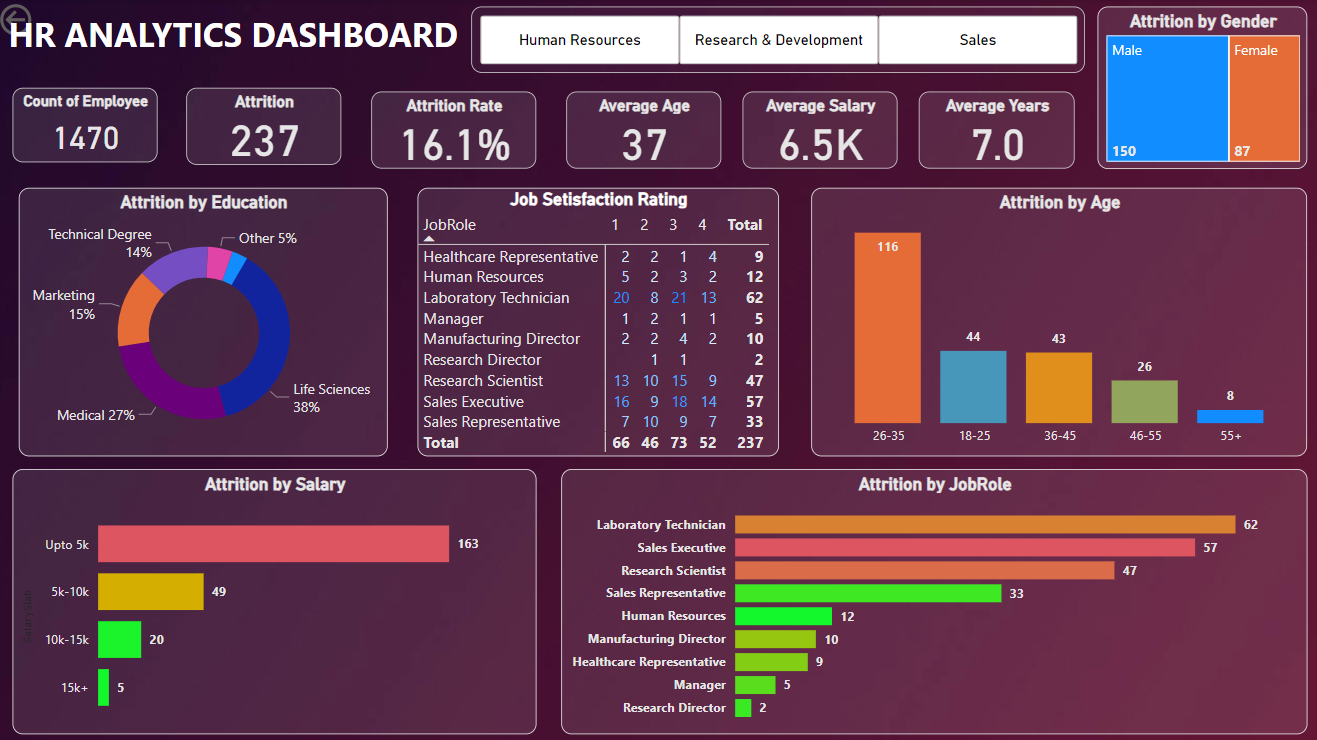

Layout of this report page (visuals, bound fields, positions):
{"tool":"powerbi","page":{"name":"Dashboard","canvas":[1280,720],"ordinal":0},"visuals":[{"type":"card","title":"Count of Employee","fields":{"Values":["CountNonNull(HR_Analytics.EmpID)"]},"box":[16.9,85.6,139.9,72.4],"z":0},{"type":"card","title":"Attrition","fields":{"Values":["CountNonNull(HR_Analytics.newcol)"]},"box":[184.5,85.6,149.5,74.8],"z":1000},{"type":"card","title":"Attrition Rate","fields":{"Values":["HR_Analytics.AttritionRate"]},"box":[363,89.2,159.2,74.8],"z":2000},{"type":"card","title":"Average Age","fields":{"Values":["Avg(HR_Analytics.Age)"]},"box":[551.2,89.2,149.5,74.8],"z":3000},{"type":"actionButton","box":[0,0,100,40],"z":4000},{"type":"card","title":"Average Salary","fields":{"Values":["Avg(HR_Analytics.MonthlyIncome)"]},"box":[721.2,89.2,149.5,74.8],"z":5000},{"type":"card","title":"Average Years","fields":{"Values":["Avg(HR_Analytics.YearsAtCompany)"]},"box":[891.3,89.2,150.8,74.8],"z":6000},{"type":"donutChart","title":"Attrition by Education","fields":{"Category":["HR_Analytics.EducationField"],"Y":["CountNonNull(HR_Analytics.Attrition_Count)"]},"box":[22.9,182.1,355.8,259.3],"z":7000},{"type":"columnChart","title":"Attrition by Age","fields":{"Category":["HR_Analytics.AgeGroup"],"Y":["CountNonNull(HR_Analytics.Attrition_Count)"]},"box":[787.5,182.1,478.8,259.3],"z":8000},{"type":"pivotTable","title":"Job Setisfaction Rating","fields":{"Rows":["HR_Analytics.JobRole"],"Columns":["HR_Analytics.JobSatisfaction"],"Values":["CountNonNull(HR_Analytics.Attrition_Count)"]},"box":[407.6,182.1,348.5,259.3],"z":9000},{"type":"barChart","title":"Attrition by Salary","fields":{"Category":["HR_Analytics.SalarySlab"],"Y":["CountNonNull(HR_Analytics.Attrition_Count)"]},"box":[16.9,453.5,505.3,255.7],"z":10000},{"type":"barChart","title":"Attrition by JobRole","fields":{"Y":["CountNonNull(HR_Analytics.Attrition_Count)"],"Category":["HR_Analytics.JobRole"]},"box":[546.3,453.5,720,255.7],"z":11000},{"type":"treemap","title":"Attrition by Gender","fields":{"Values":["CountNonNull(HR_Analytics.Attrition_Count)"],"Group":["HR_Analytics.Gender"]},"box":[1063.7,7.2,202.6,156.8],"z":12000},{"type":"advancedSlicerVisual","fields":{"Values":["HR_Analytics.Department"]},"box":[459.5,7.2,592.2,63.9],"z":13000},{"type":"textbox","box":[0,7.2,459.5,63.9],"z":13001}]}

Visuals, with their boxes in screenshot pixels (x1, y1, x2, y2), scaled from the page's 1280x720 canvas onto the 1317x740 screenshot:
"Count of Employee" card: 17/88/161/162
"Attrition" card: 190/88/344/165
"Attrition Rate" card: 373/92/537/169
"Average Age" card: 567/92/721/169
actionButton: 0/0/103/41
"Average Salary" card: 742/92/896/169
"Average Years" card: 917/92/1072/169
"Attrition by Education" donutChart: 24/187/390/454
"Attrition by Age" columnChart: 810/187/1303/454
"Job Setisfaction Rating" pivotTable: 419/187/778/454
"Attrition by Salary" barChart: 17/466/537/729
"Attrition by JobRole" barChart: 562/466/1303/729
"Attrition by Gender" treemap: 1094/7/1303/169
advancedSlicerVisual - HR_Analytics.Department: 473/7/1082/73
textbox: 0/7/473/73
